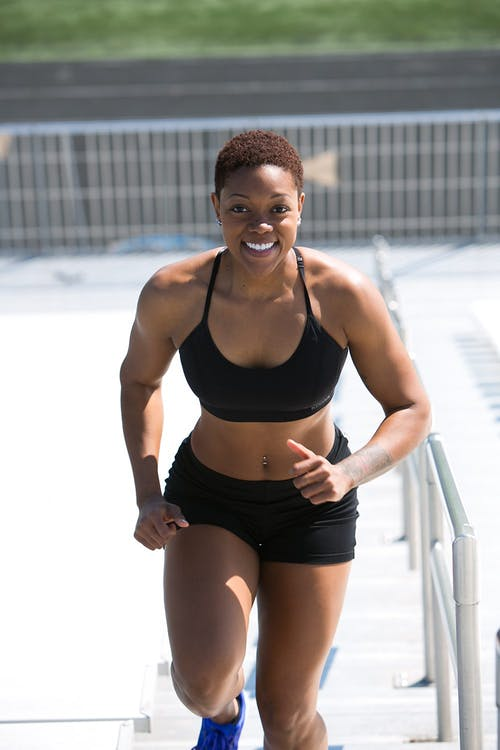person: (207, 132, 304, 280)
